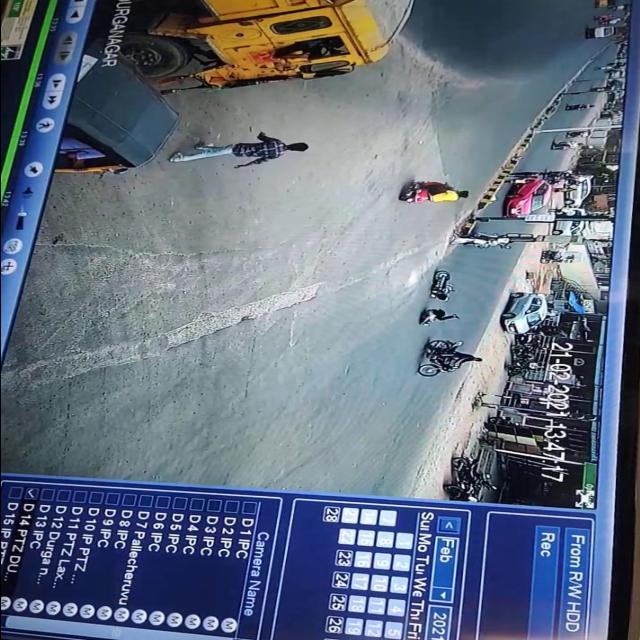accident: (410, 261, 476, 331)
